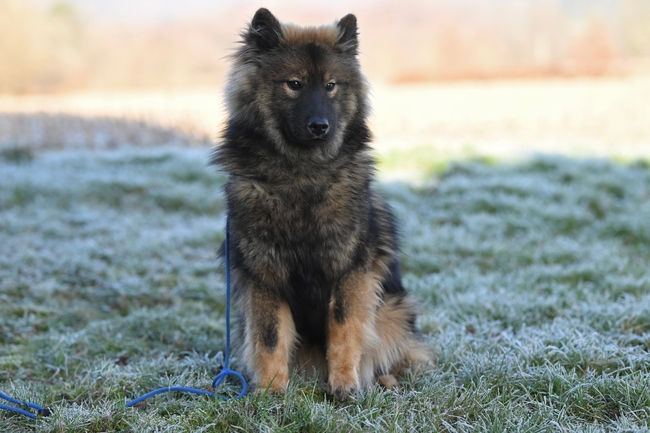dog: (209, 7, 438, 408)
